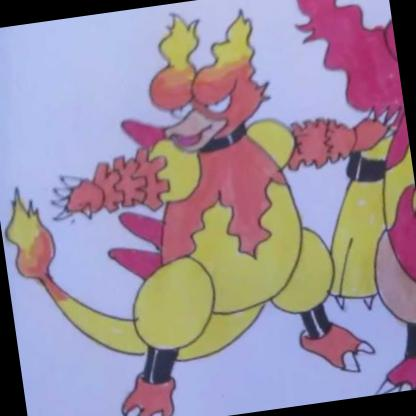Magmar: (1, 6, 416, 416)
